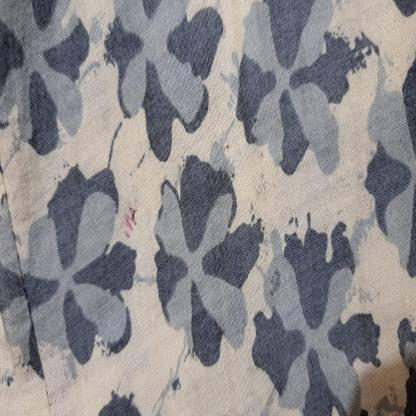spot: (120, 195, 139, 242)
